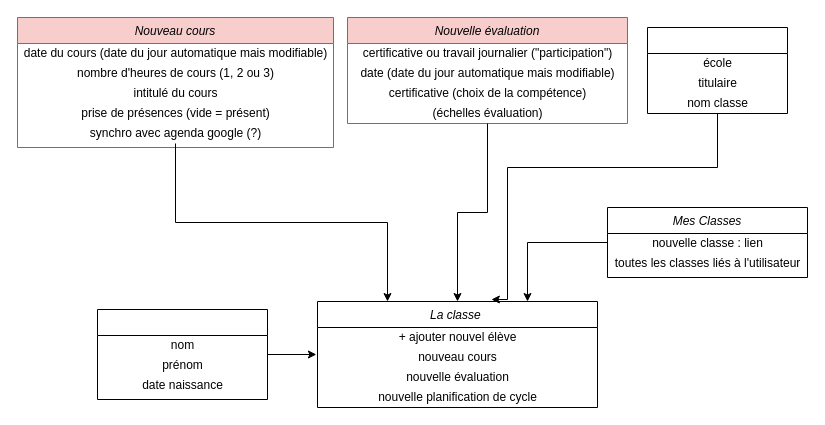
Image size: 825x425. Some labels were removed from this diagram. Here are the shapes that lost their labels. From the top down, the box of each, then its label:
(646, 26, 788, 114): Mes Classes (form)
(96, 308, 268, 400): Eleve Form
